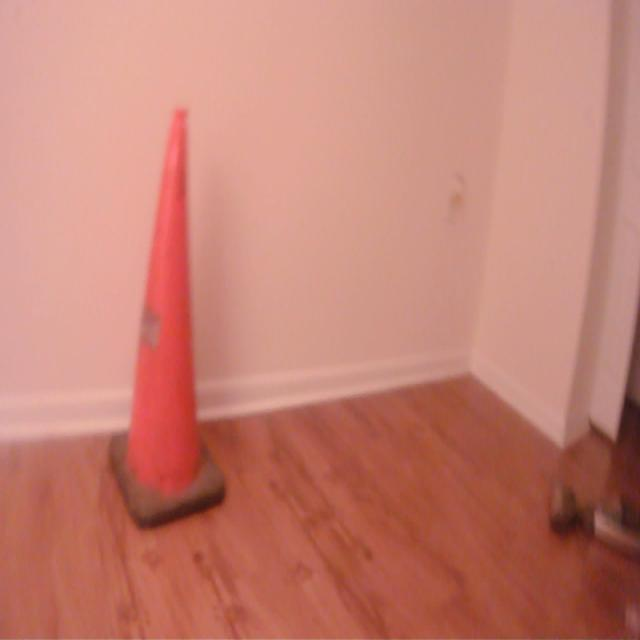traffic cone: (104, 102, 232, 534)
